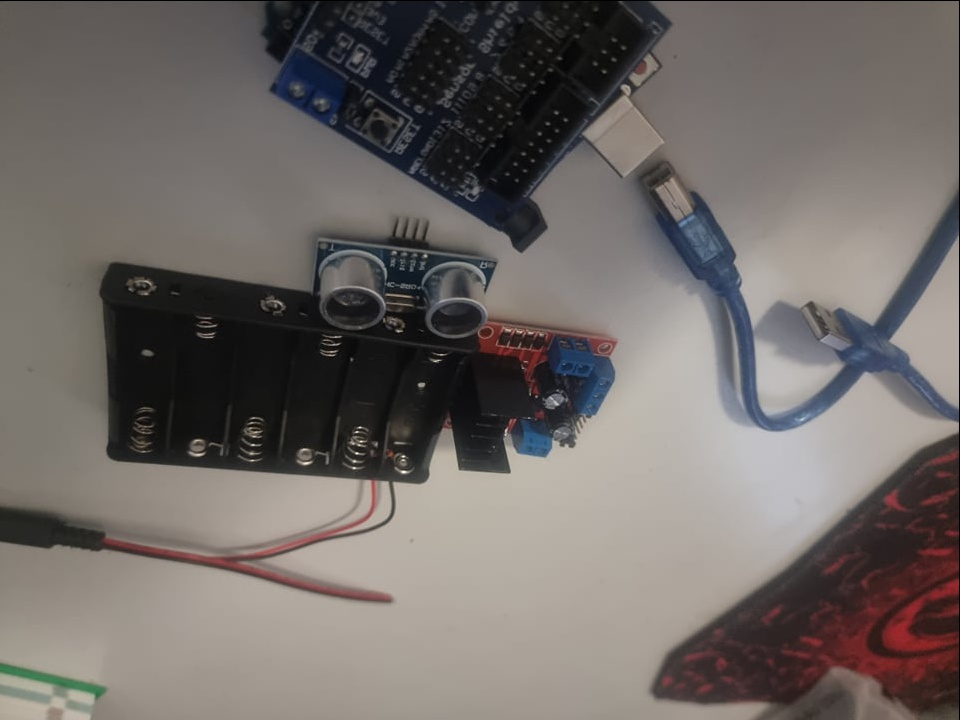5V EXPANSION: (266, 0, 593, 188)
BATTERY BOX: (95, 274, 449, 484)
MOTOR: (453, 320, 631, 476)
SENSOR: (310, 239, 499, 331)
